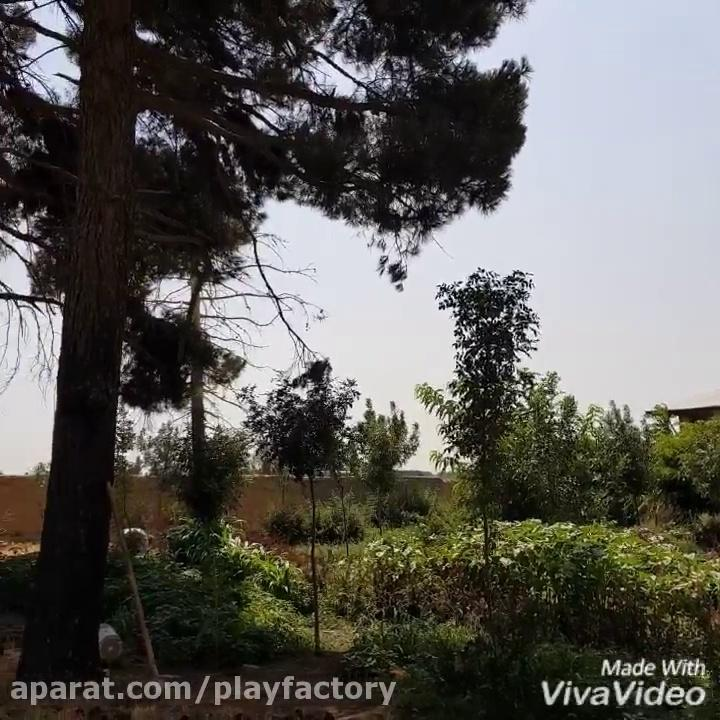drone: (309, 309, 330, 323)
